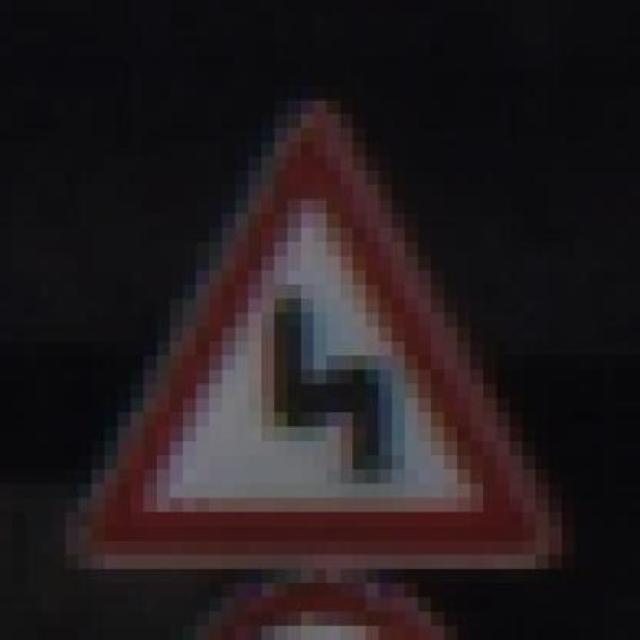Left Zig Zag Traffic: (63, 94, 572, 592)
